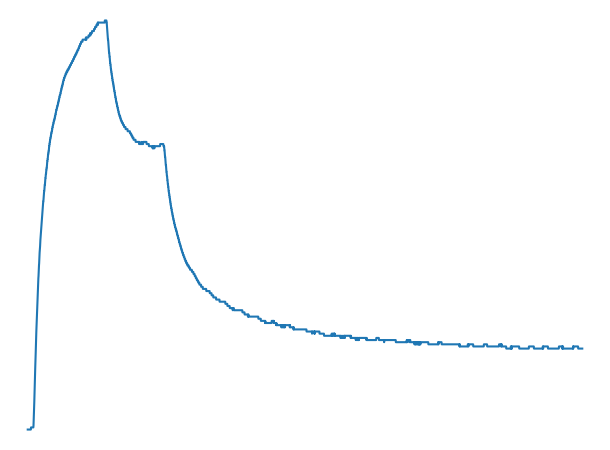decrease: (152, 135, 171, 156), (99, 14, 113, 35)
increase: (29, 414, 38, 434)
